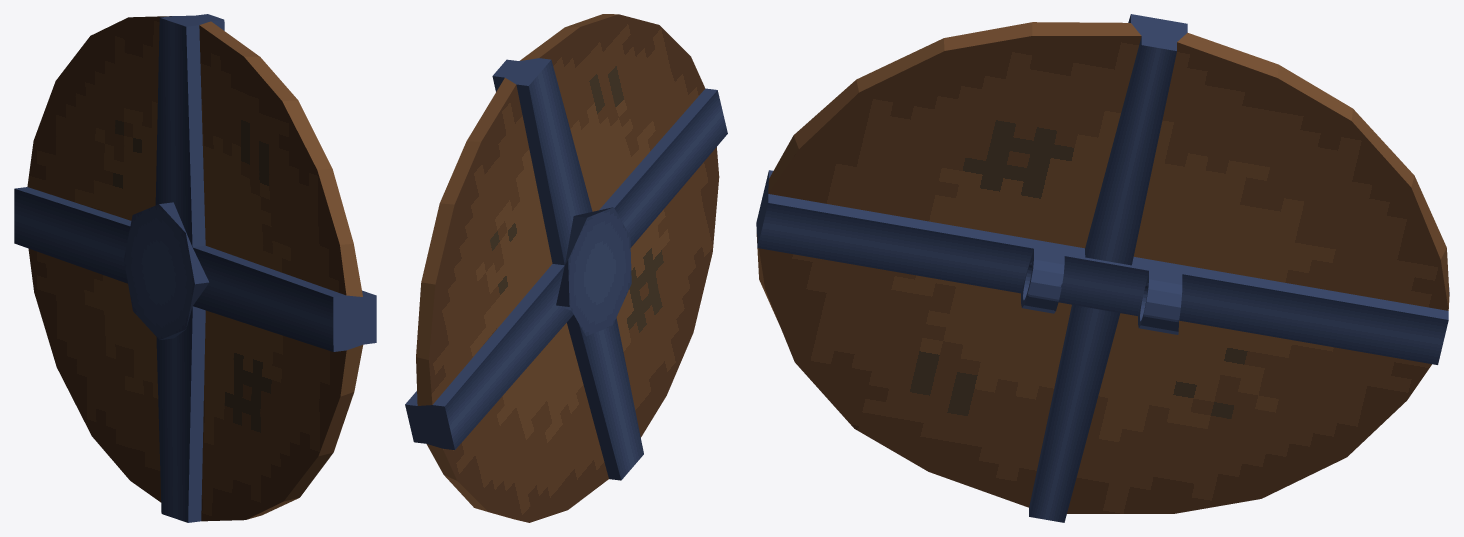
File: Escudo.fbx
3 renders of one model, left to right at view 1: azimuth 30°, elevation 25°; view 2: azimuth 150°, elevation 25°; view 3: azimuth 270°, elevation 25°, orthographic. The views are drawn at different scales.
Parts seen in each view (by area): view 1: Escudo; view 2: Escudo; view 3: Escudo.
Boxes of the visible parts, box(x1,y1,x2,y2) form: Escudo: box(14, 14, 376, 522); Escudo: box(405, 14, 727, 522); Escudo: box(756, 14, 1449, 522).
Bounding box in the file's own units: 59.56 × 303 × 248.
1 material, 1 textured.
